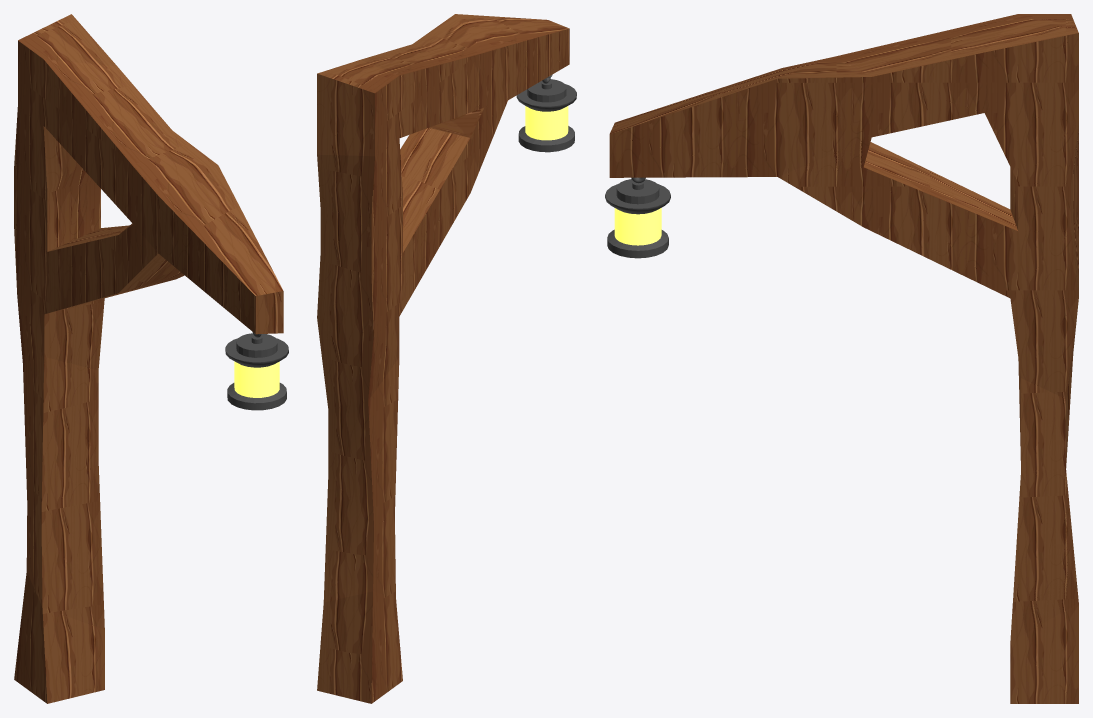
File: lampadaire.fbx
3 views of the same model, side by side, from view 1: azimuth 30°, elevation 25°; view 2: azimuth 150°, elevation 25°; view 3: azimuth 270°, elevation 25° (orthographic). The views are drawn at different scales.
Parts seen in each view (by area): view 1: polySurface6; view 2: polySurface6; view 3: polySurface6.
Part boxes in pixels (left/top/right/bottom): polySurface6: left=14, top=14, right=288, bottom=703; polySurface6: left=317, top=14, right=576, bottom=703; polySurface6: left=605, top=14, right=1078, bottom=703.
Bounding box in the file's own units: 2.17 × 23.28 × 14.9.
